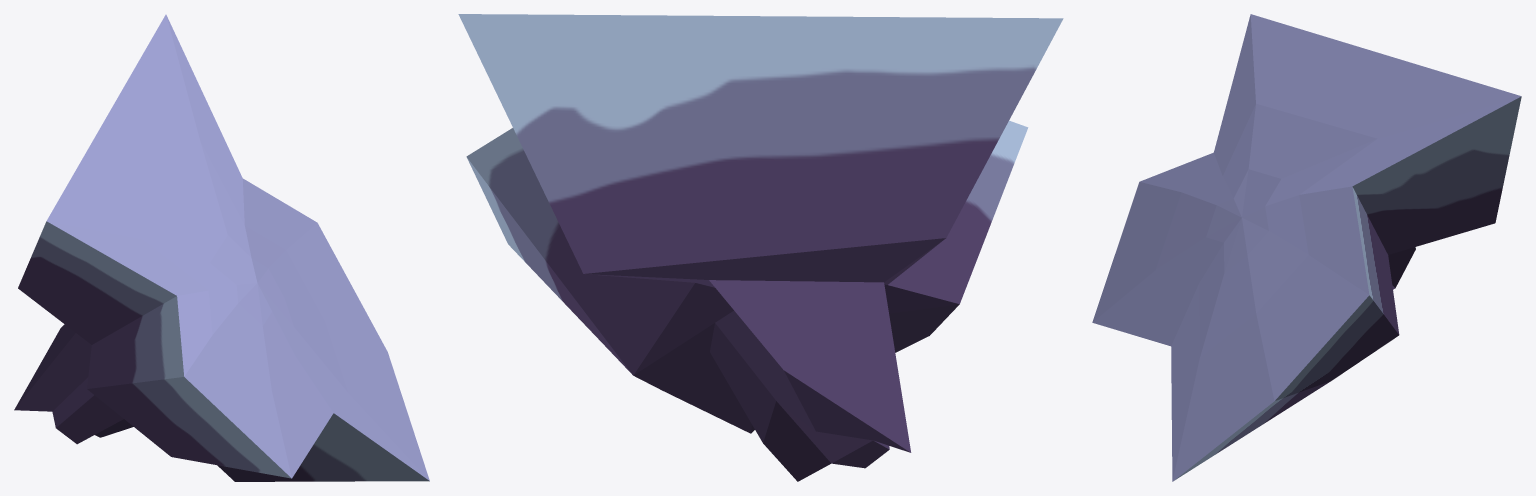
The model's file is Isla mediana 3.fbx.
3 views of the same model, side by side, from view 1: azimuth 30°, elevation 25°; view 2: azimuth 150°, elevation 25°; view 3: azimuth 270°, elevation 25° (orthographic). The views are drawn at different scales.
Parts seen in each view (by area): view 1: Isla mediana 3; view 2: Isla mediana 3; view 3: Isla mediana 3.
Boxes of the visible parts, bbox=[...] form: Isla mediana 3: bbox=[14, 14, 429, 481]; Isla mediana 3: bbox=[458, 14, 1063, 481]; Isla mediana 3: bbox=[1092, 14, 1521, 481].
Size of the model in its own units: 2015 by 1944 by 2182.
